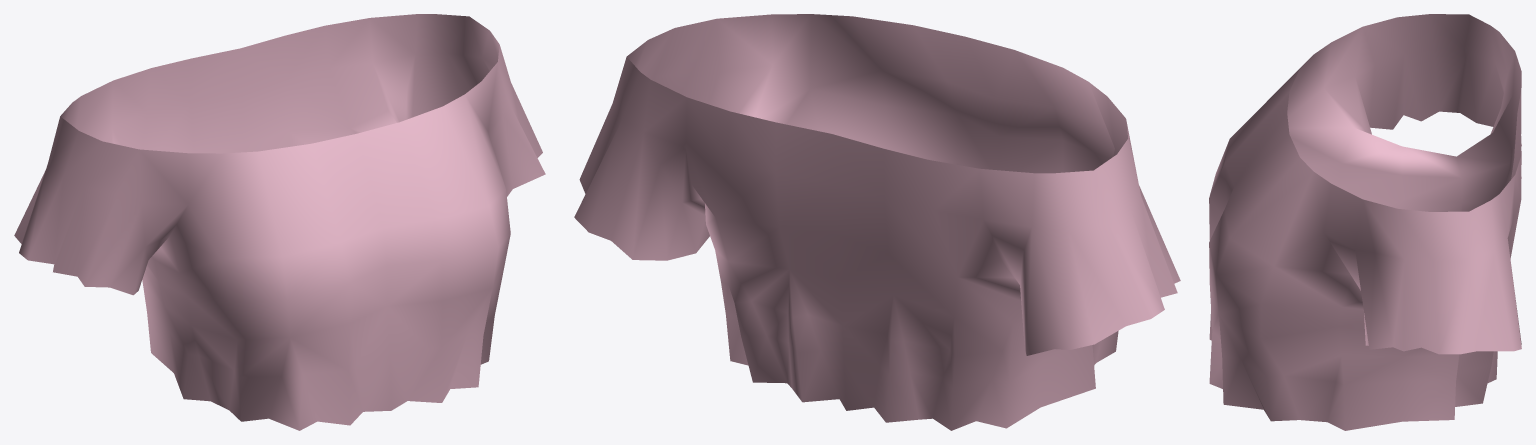
File: blouse_2.glb
3 renders of one model, left to right at view 1: azimuth 30°, elevation 25°; view 2: azimuth 150°, elevation 25°; view 3: azimuth 270°, elevation 25°, orthographic. The views are drawn at different scales.
Visible parts, largest first — view 1: blouse_2; view 2: blouse_2; view 3: blouse_2.
Boxes of the visible parts, bbox=[...] form: blouse_2: bbox=[14, 14, 545, 430]; blouse_2: bbox=[574, 14, 1180, 430]; blouse_2: bbox=[1209, 14, 1521, 430].
Bounding box in the file's own units: 0.4535 × 0.2165 × 0.2468.
